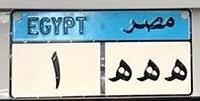1: (49, 50, 64, 91)
haa: (134, 56, 161, 85), (162, 55, 188, 85), (106, 55, 132, 84)
